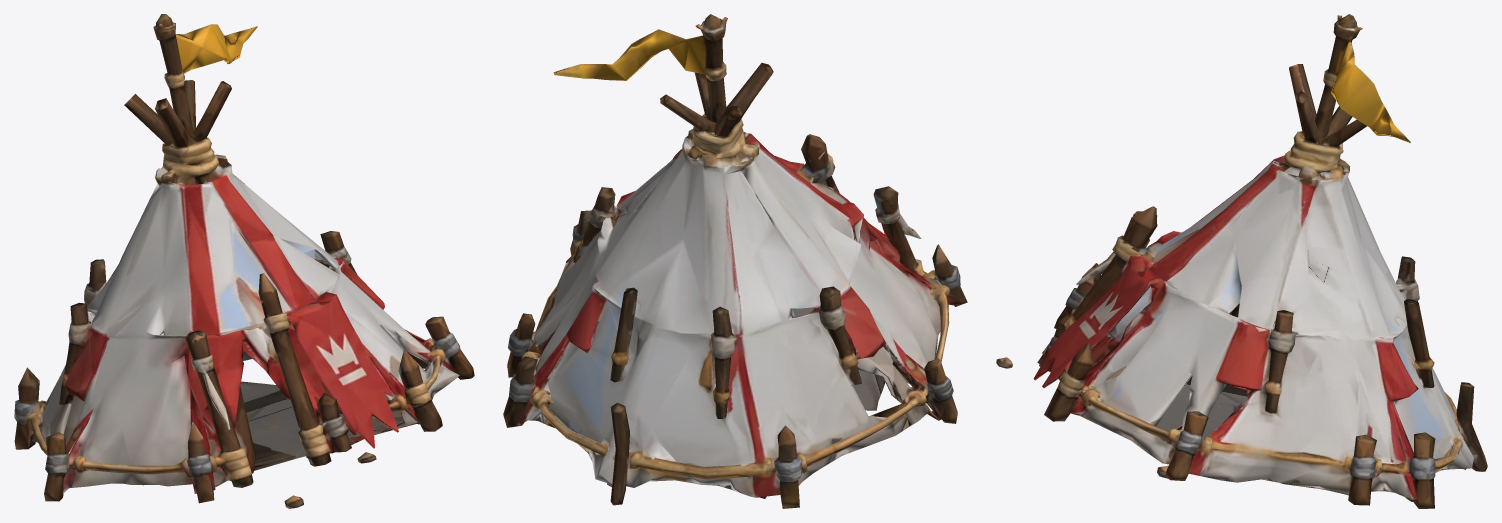
The model's file is bld_tent.glb.
3 views of the same model, side by side, from view 1: azimuth 30°, elevation 25°; view 2: azimuth 150°, elevation 25°; view 3: azimuth 270°, elevation 25° (orthographic). The views are drawn at different scales.
Visible parts, largest first — view 1: BakeLow; view 2: BakeLow; view 3: BakeLow.
Boxes of the visible parts, left/top/right/bottom form: BakeLow: left=14, top=14, right=474, bottom=508; BakeLow: left=503, top=14, right=967, bottom=508; BakeLow: left=996, top=14, right=1487, bottom=508.
Bounding box in the file's own units: 0.8036 × 0.831 × 0.8377.
Materials: 1 (1 with a texture image).
